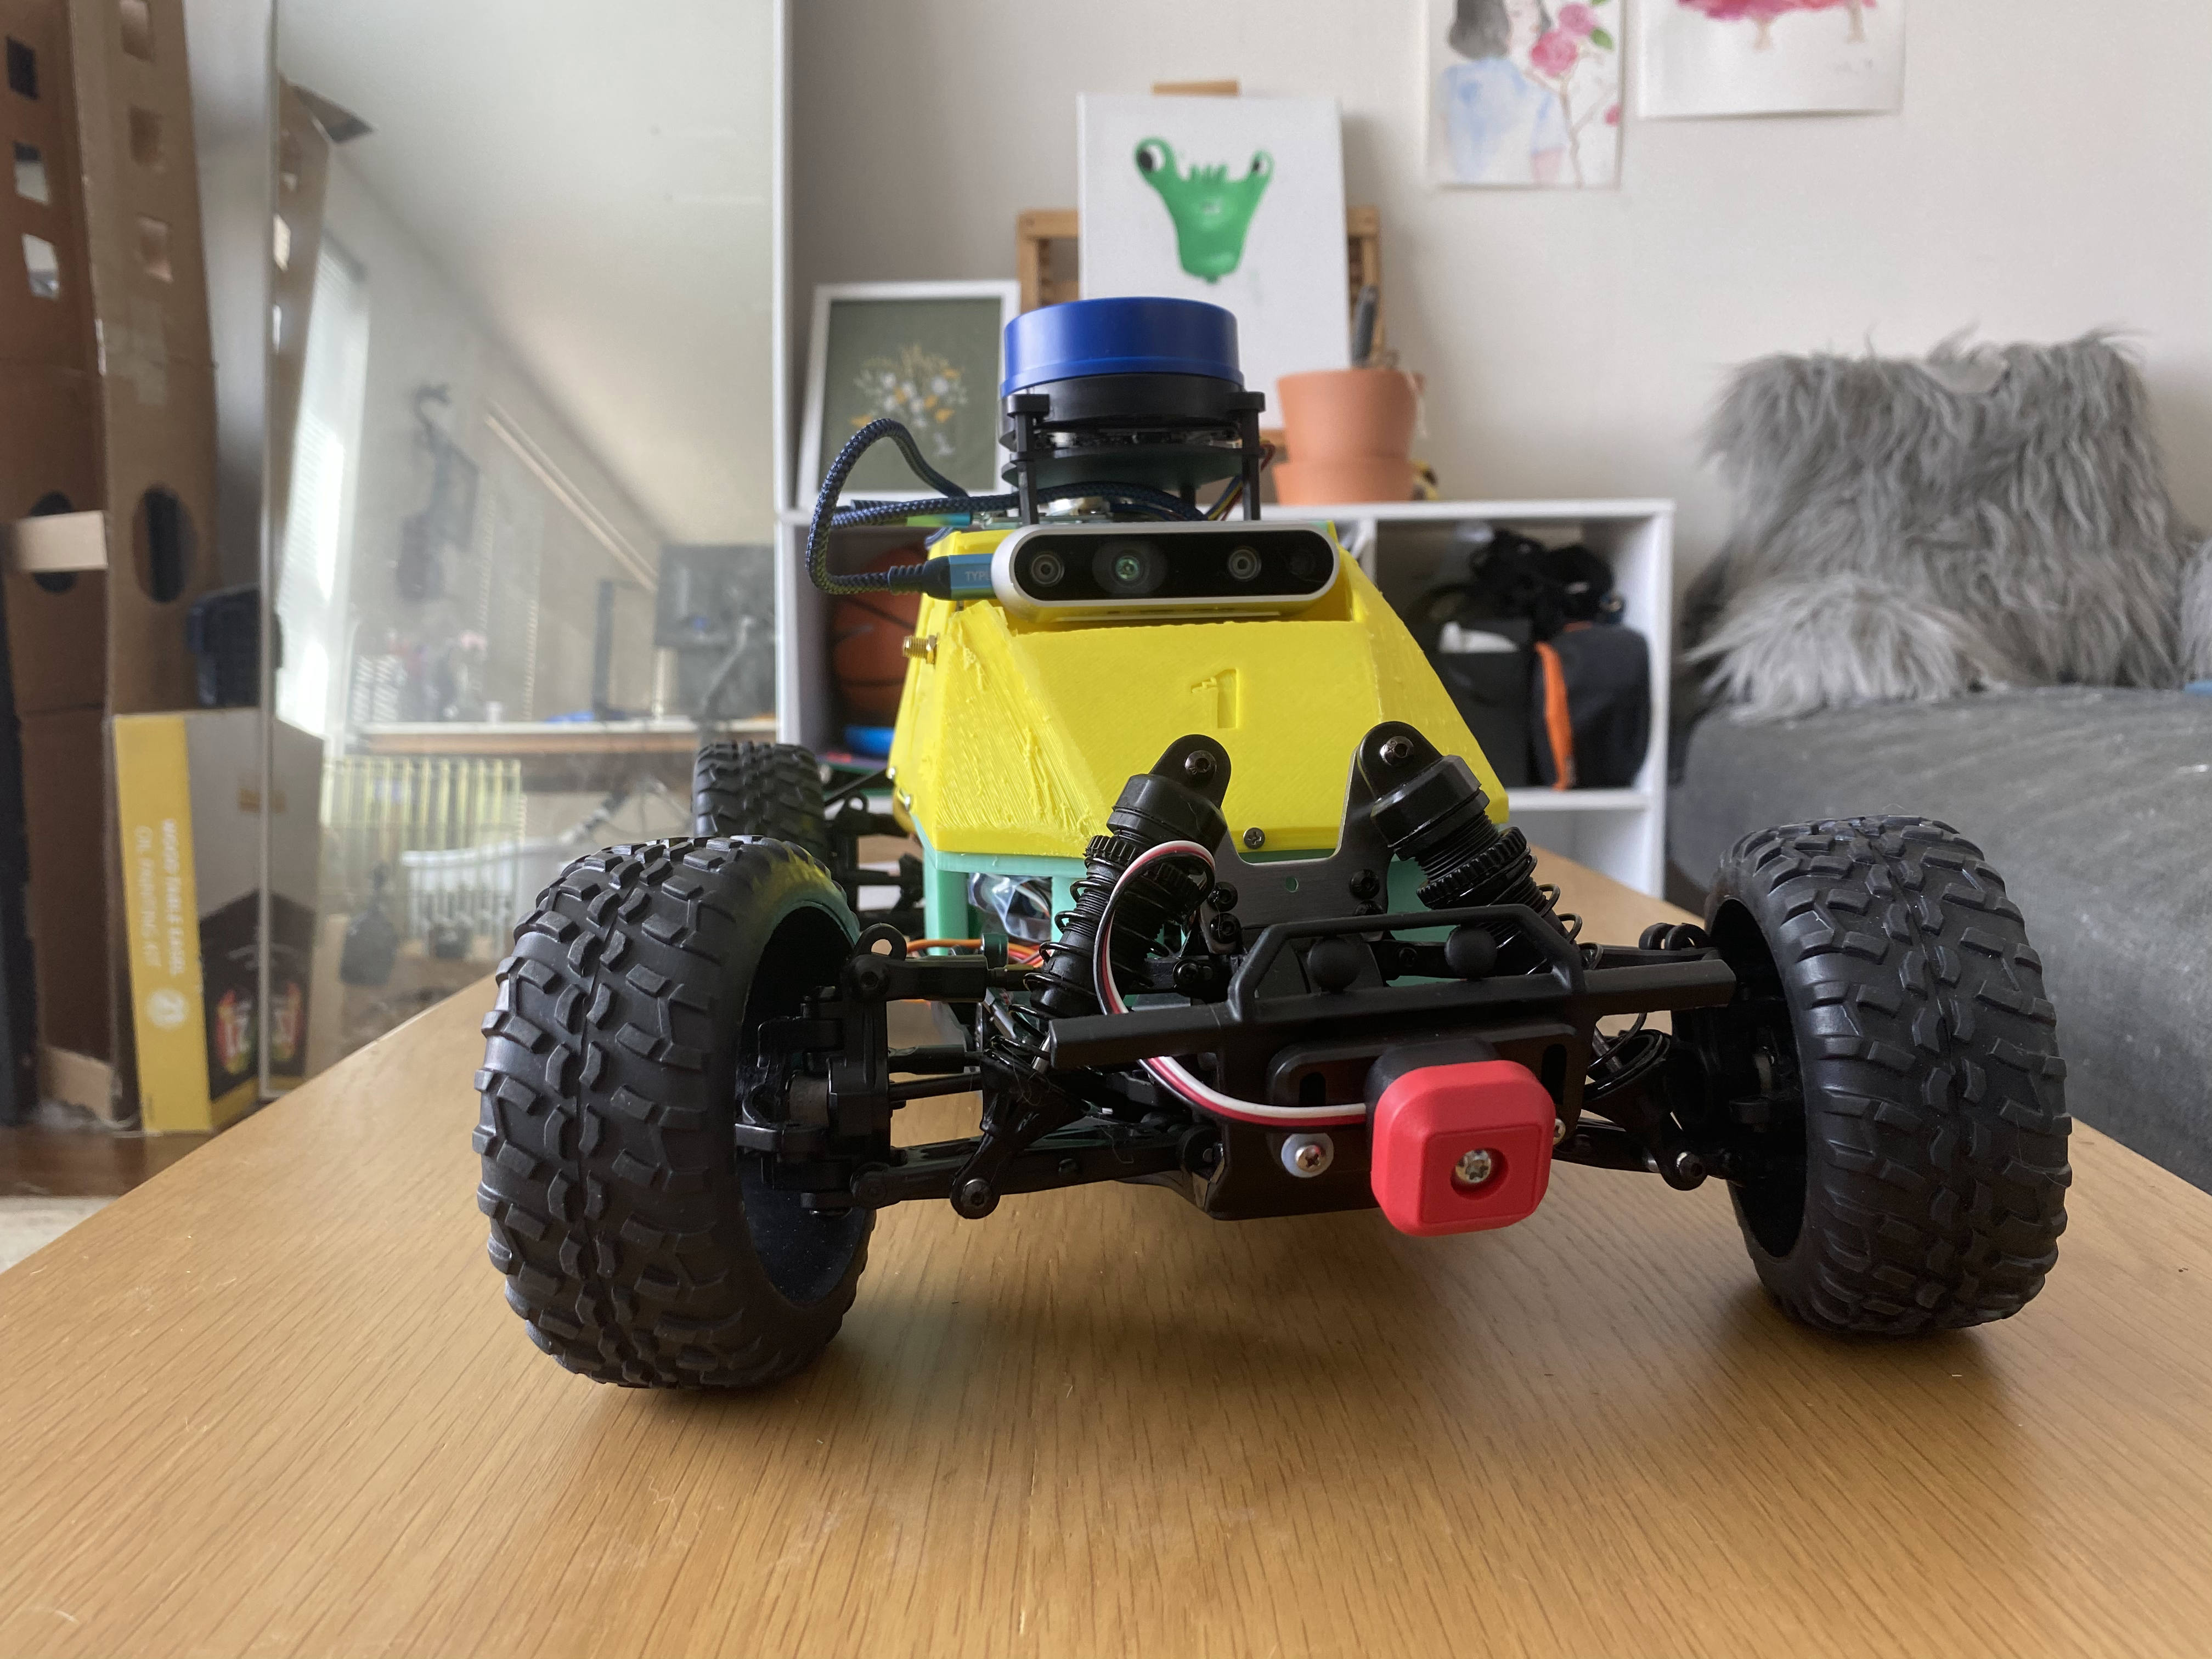mushr_car: (455, 293, 2069, 1391)
